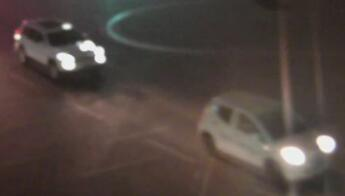car: (199, 88, 336, 189), (15, 16, 107, 82)
